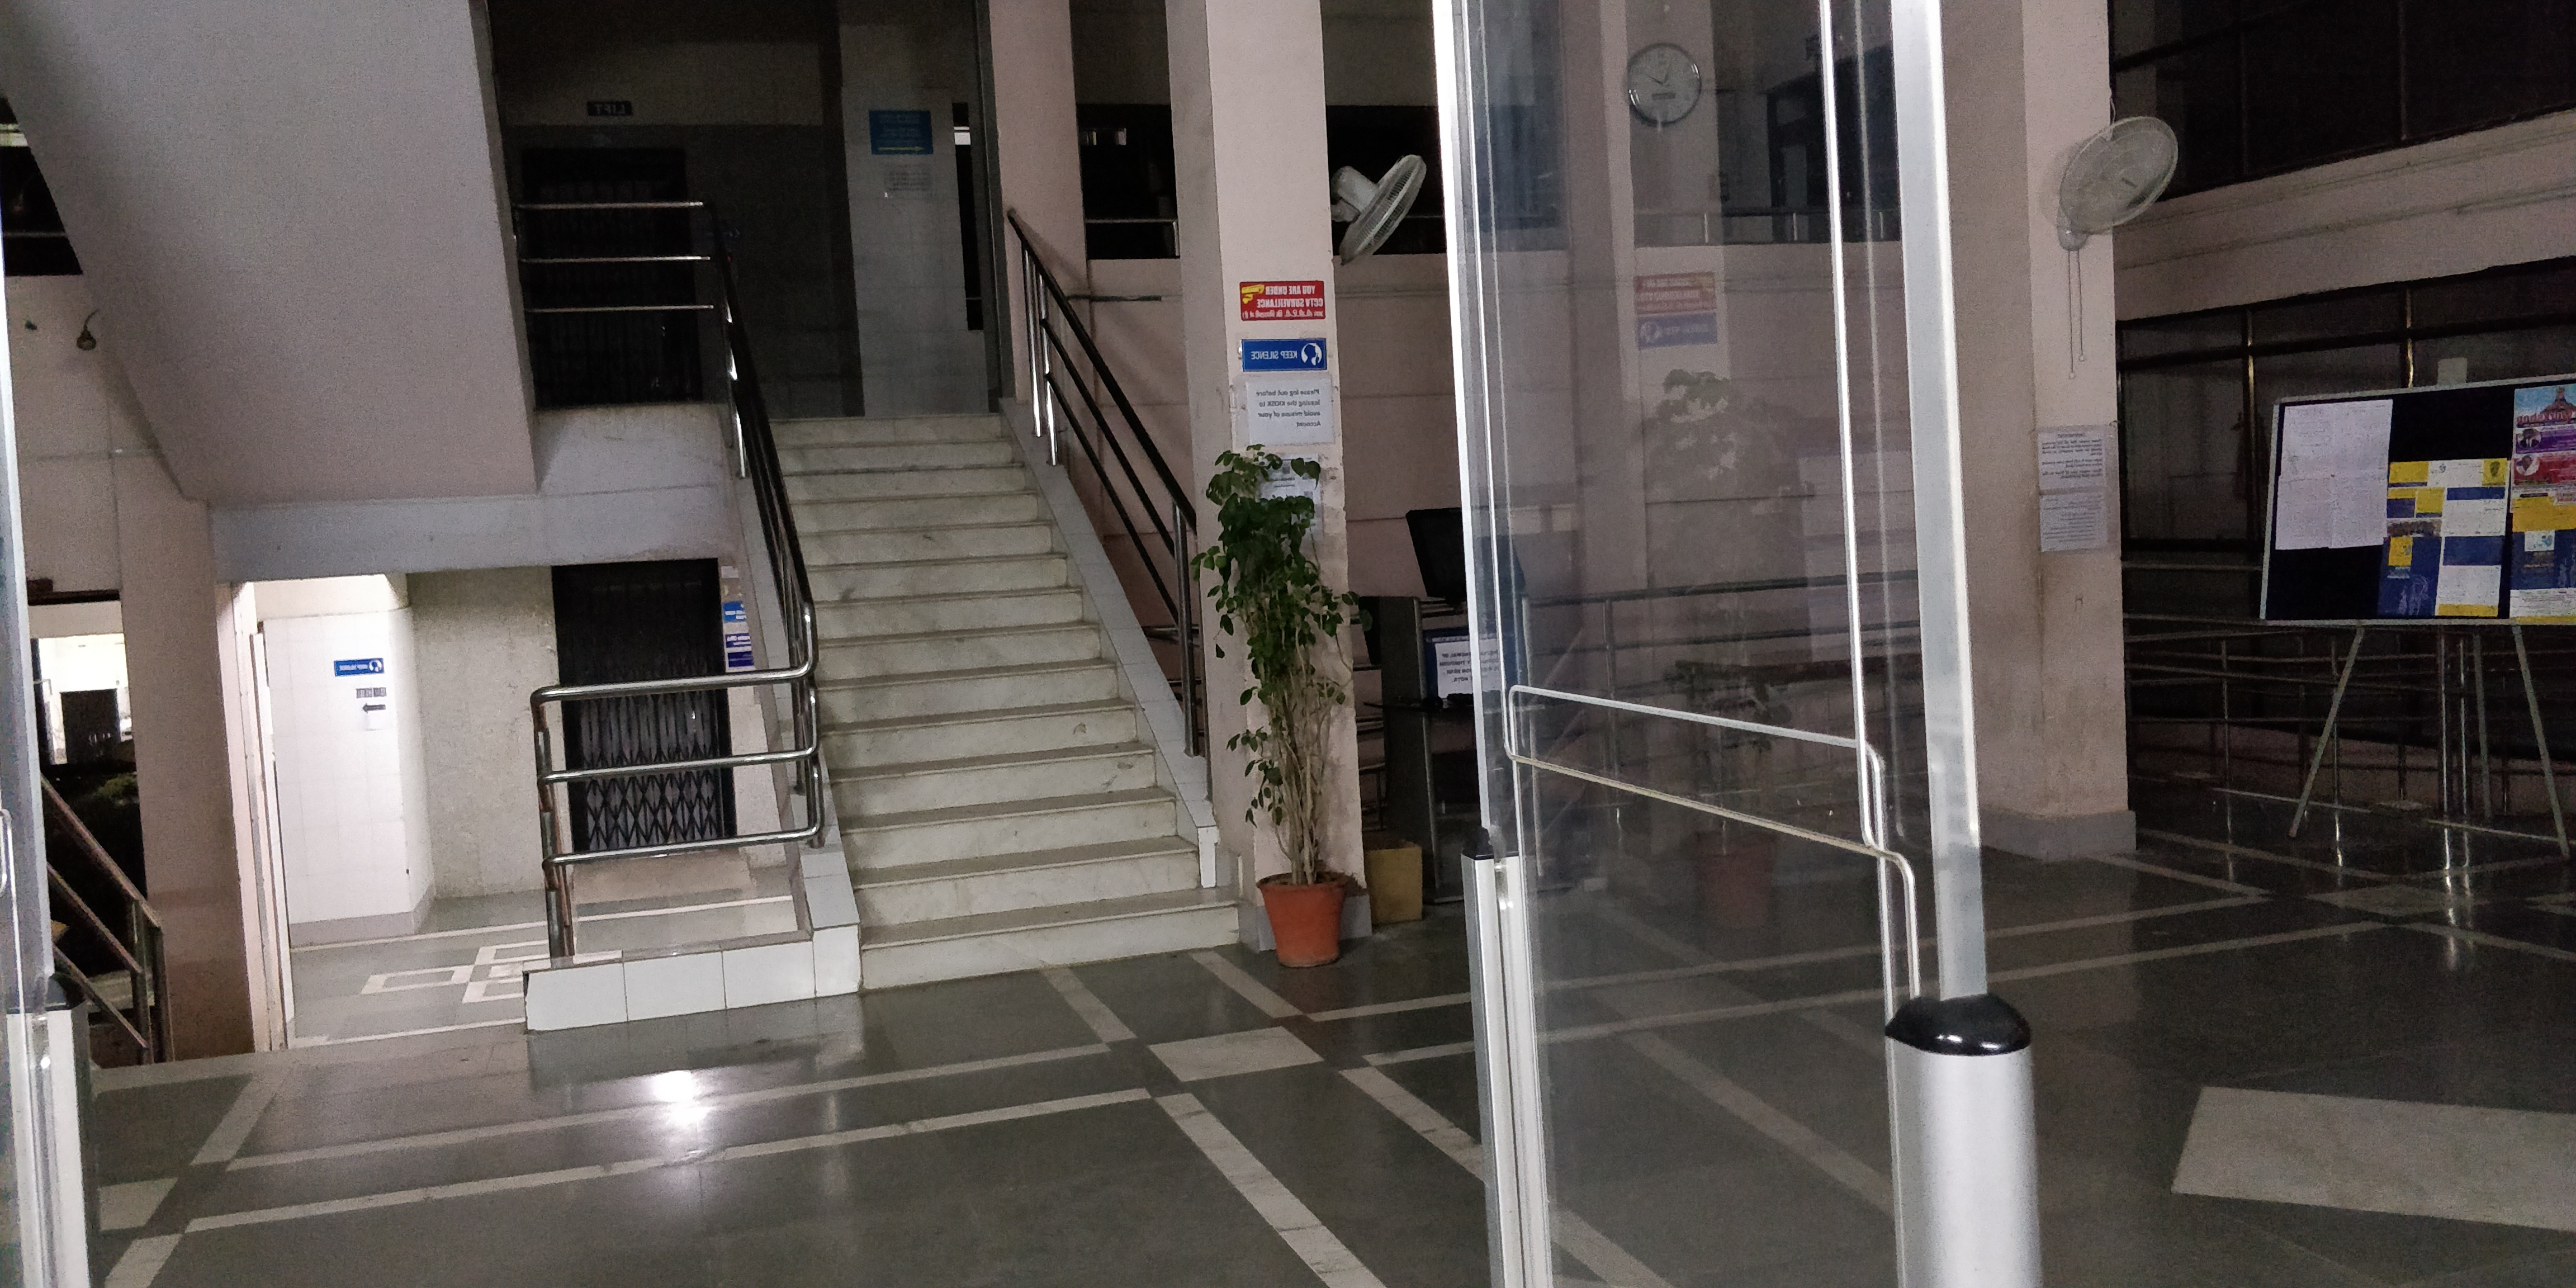stairs_up: (761, 404, 1224, 981)
